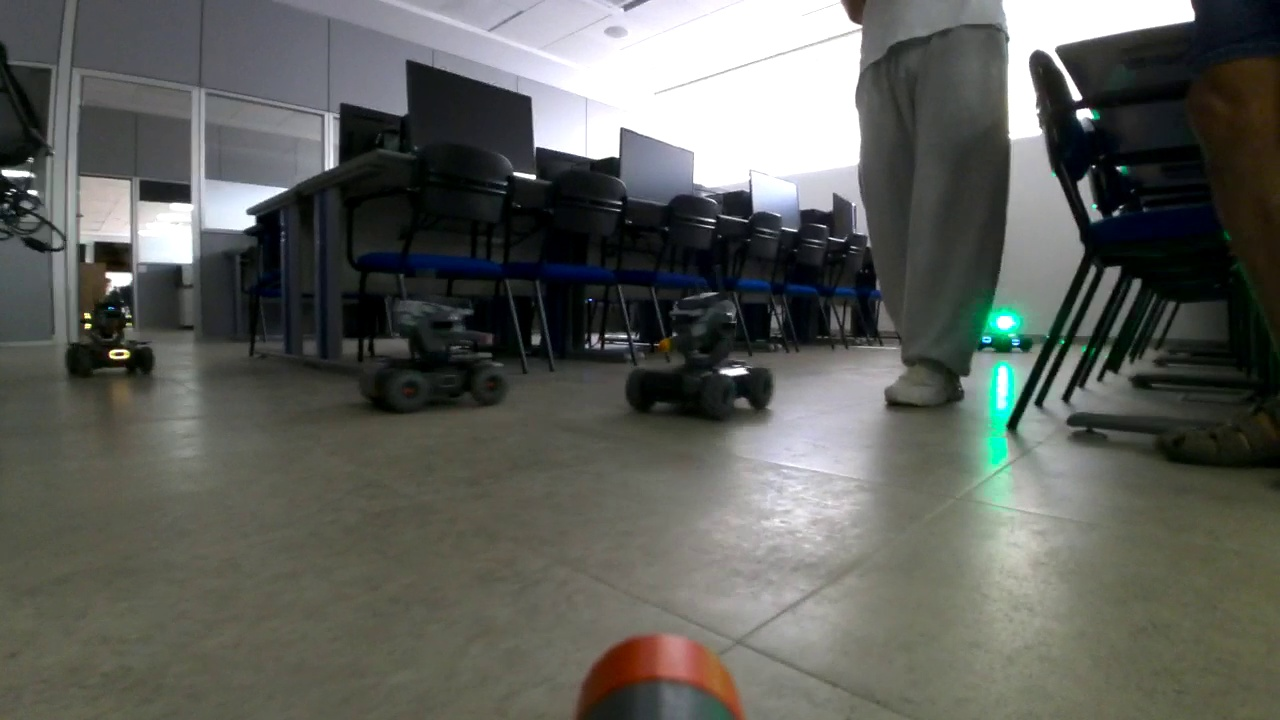robot: (627, 267, 775, 419), (362, 274, 507, 405), (64, 287, 155, 375), (974, 302, 1032, 352)
